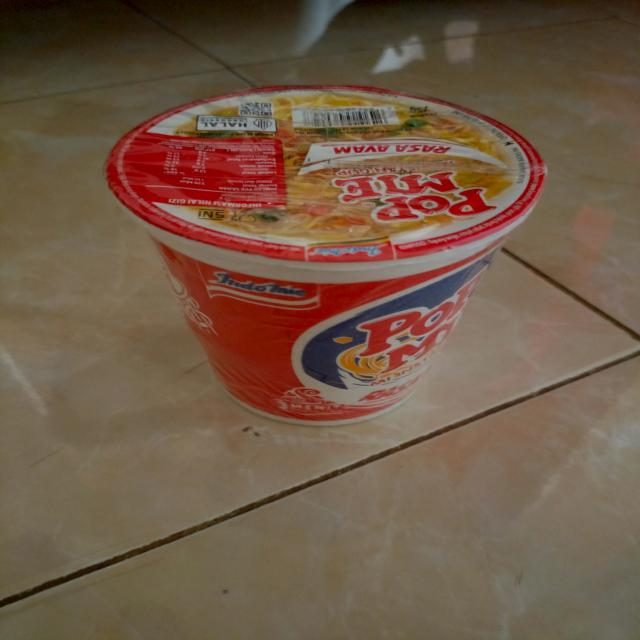popmie-rasa-ayam: (106, 81, 546, 425)
